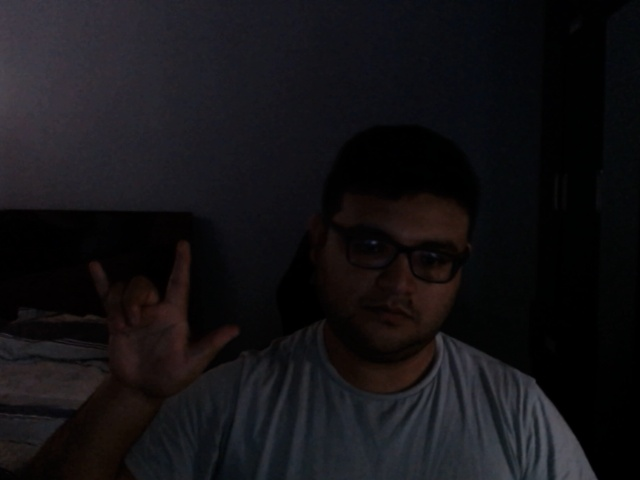I love you: (78, 237, 244, 407)
